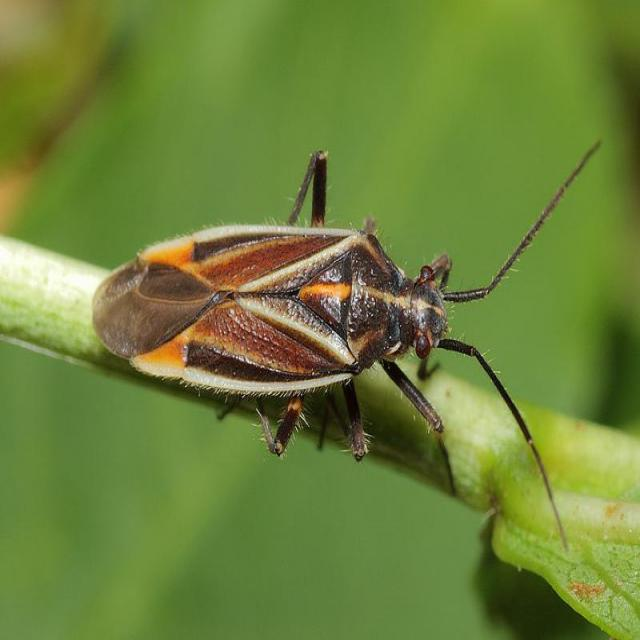Miridae-Adult-: (86, 131, 588, 491)
